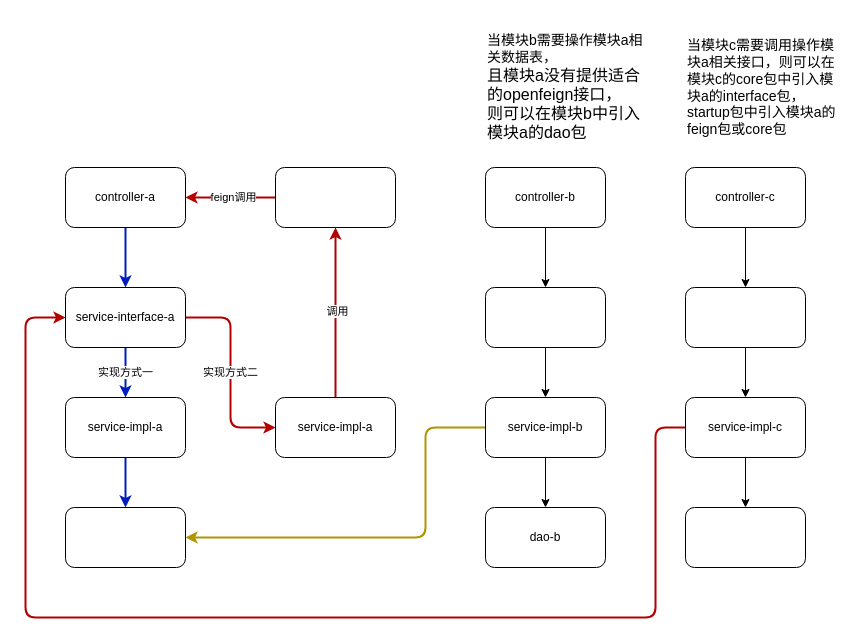
Some shapes in this 862 by 643 pixel diagram are drawn without their labels. Here are the shapes that lost their labels. From the top down, the centre of each, then its label:
At (x=335, y=197): "feign-a".
At (x=545, y=317): "service- interface-b".
At (x=745, y=317): "service- interface-c".
At (x=125, y=537): "dao-a".
At (x=745, y=537): "dao-c".
